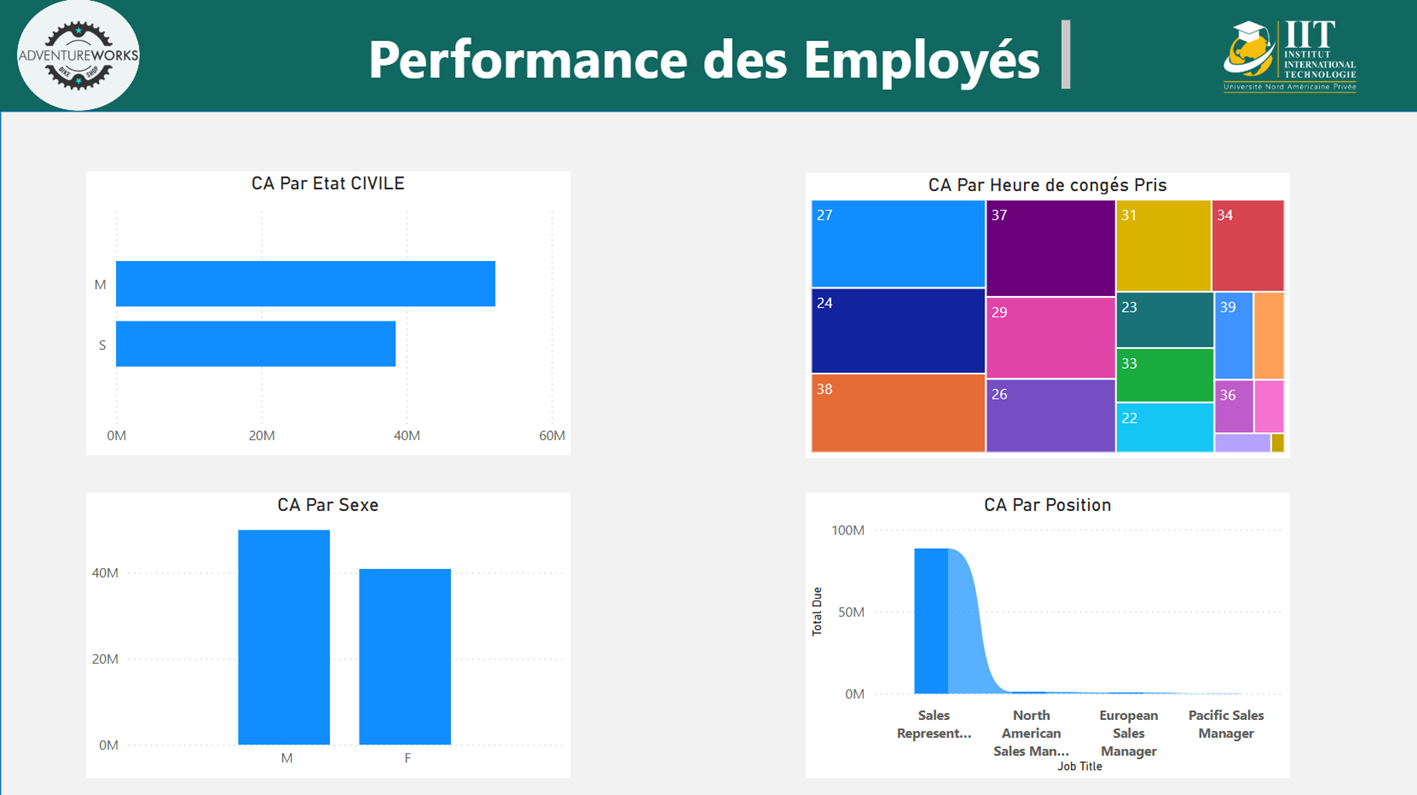

What the dashboard file says about the page in this screenshot:
{"tool":"powerbi","page":{"name":"Performance des employés","canvas":[1280,720],"ordinal":2},"visuals":[{"type":"shape","title":"BG TOP","box":[0,101,1280,619],"z":0},{"type":"shape","box":[0,0,1280,101.4],"z":1000},{"type":"shape","box":[15,0,110.7,100.7],"z":2000},{"type":"columnChart","title":"CA Par Sexe","fields":{"Category":["Dim Personnel.Gender"],"Y":["Fact En Magasin.Total Due"]},"box":[78,445,437,257],"z":3000},{"type":"ribbonChart","title":"CA Par Position","fields":{"Category":["Dim Personnel.Job Title"],"Y":["Fact En Magasin.Total Due"]},"box":[727,445,437,257],"z":4000},{"type":"treemap","title":"CA Par Heure de congés Pris","fields":{"Group":["Dim Personnel.Vacation Hours"],"Values":["Fact En Magasin.Total Due"]},"box":[727,157,437,257],"z":5000},{"type":"barChart","title":"CA Par Etat CIVILE","fields":{"Category":["Dim Personnel.Marital Status"],"Y":["Fact En Magasin.Total Due"]},"box":[78,155,437,256],"z":6000},{"type":"image","box":[1048,0,232,101],"z":7000},{"type":"image","box":[0,0,142.1,101.4],"z":8000},{"type":"textbox","box":[308,14,663,73],"z":9000},{"type":"actionButton","box":[3.1,103.8,41.5,40],"z":10000}]}

Visuals, with their boxes in screenshot pixels (x1, y1, x2, y2), scaled from the page's 1280x720 canvas onto the 1417x795 screenshot:
"BG TOP" shape: box(0, 112, 1416, 794)
shape: box(0, 0, 1416, 112)
shape: box(17, 0, 139, 111)
"CA Par Sexe" columnChart: box(86, 491, 570, 775)
"CA Par Position" ribbonChart: box(805, 491, 1289, 775)
"CA Par Heure de congés Pris" treemap: box(805, 173, 1289, 457)
"CA Par Etat CIVILE" barChart: box(86, 171, 570, 454)
image: box(1160, 0, 1416, 112)
image: box(0, 0, 157, 112)
textbox: box(341, 15, 1075, 96)
actionButton: box(3, 115, 49, 159)
